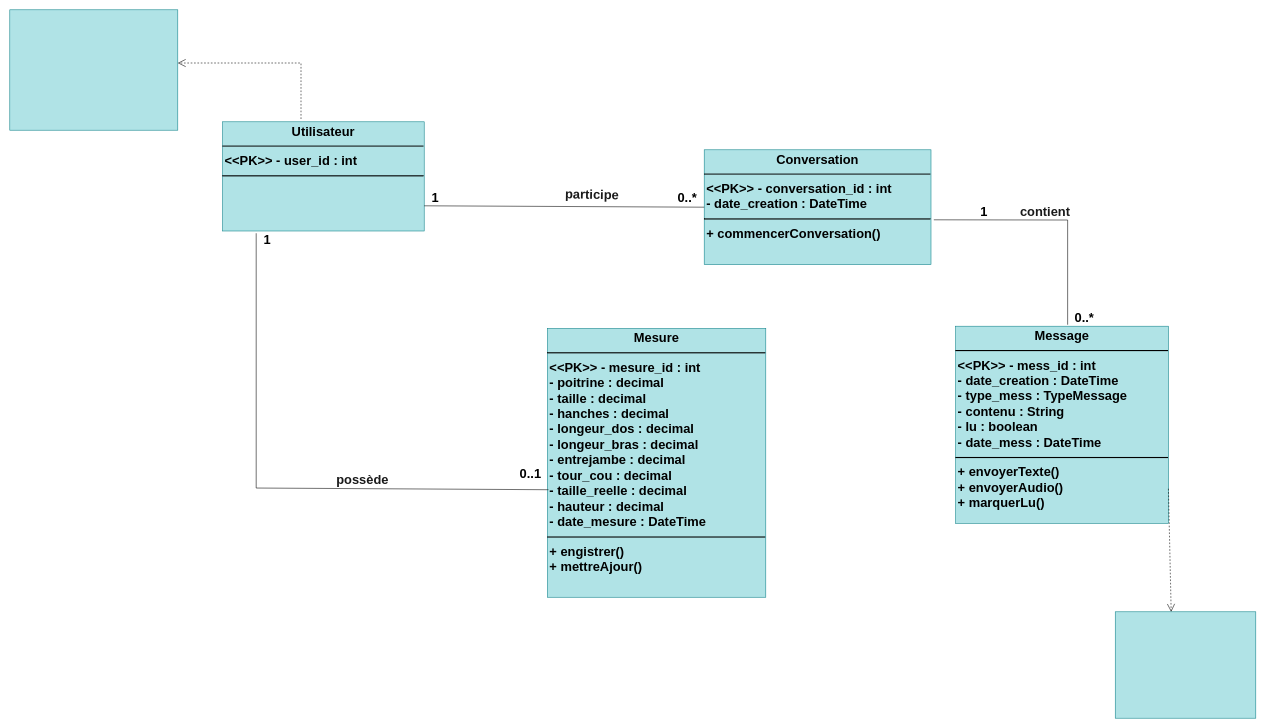
Image size: 1266x728. Some labels were removed from this diagram. The centre of each missing label's shape, as x and y in pixels:
"<<enumeration>> TypeCompte -CLIENT -TAILLEUR -ADMIN" goes at point (93, 69).
"<<enumeration>> TypeMessage - TEXTE - AUDIO" goes at point (1185, 664).
